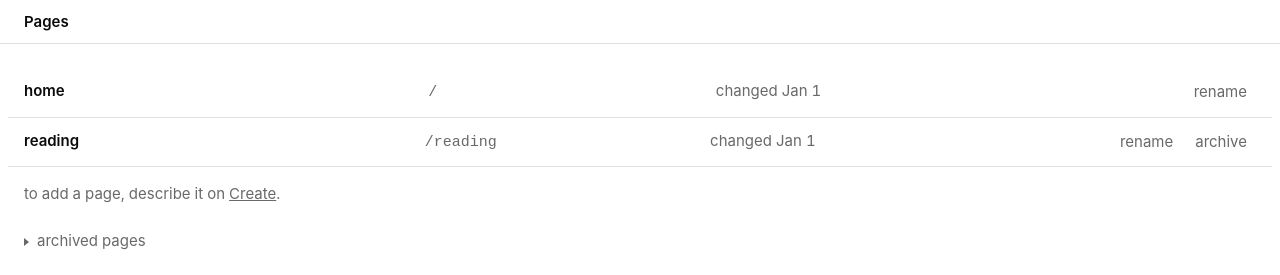
a page row renames and archives; home has no archive
The width and height of the screenshot is (1280, 275).
Later steps or results of the test are not shown.
Expected: the button with aria-label "rename home" is shown, [1185,76,1256,108]
Click the button with aria-label "rename reading".
click(1147, 142)  # box [1111,126,1182,158]
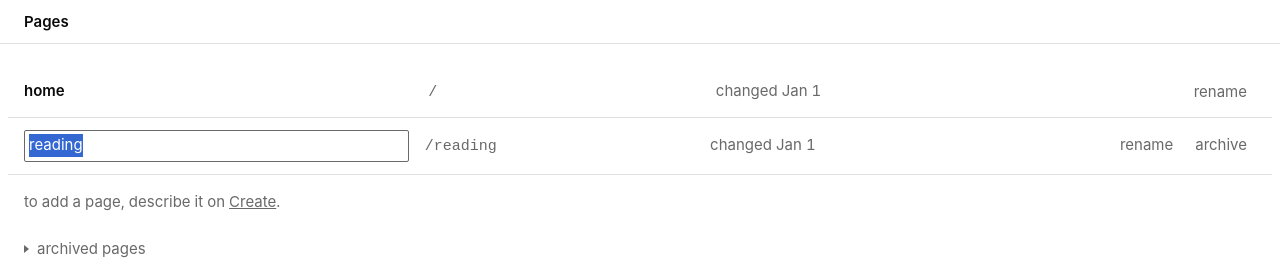
Now the field named "title of reading" holds "reading", box [24,130,409,162]
